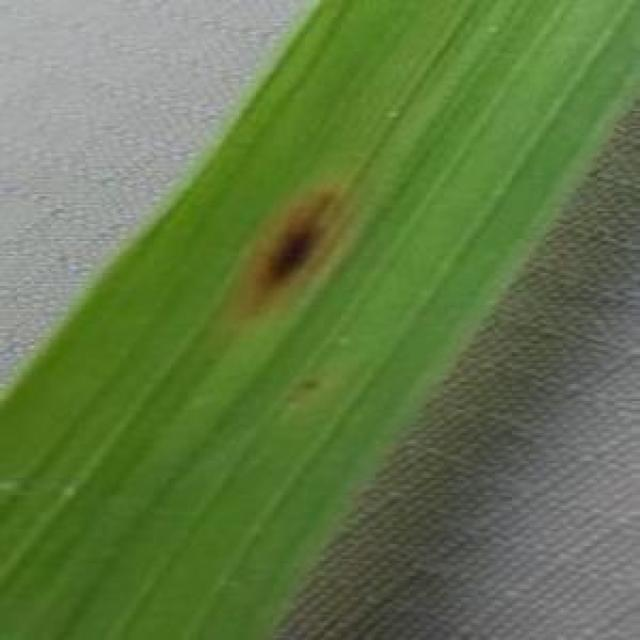Brown_Spot: (227, 179, 354, 332)
